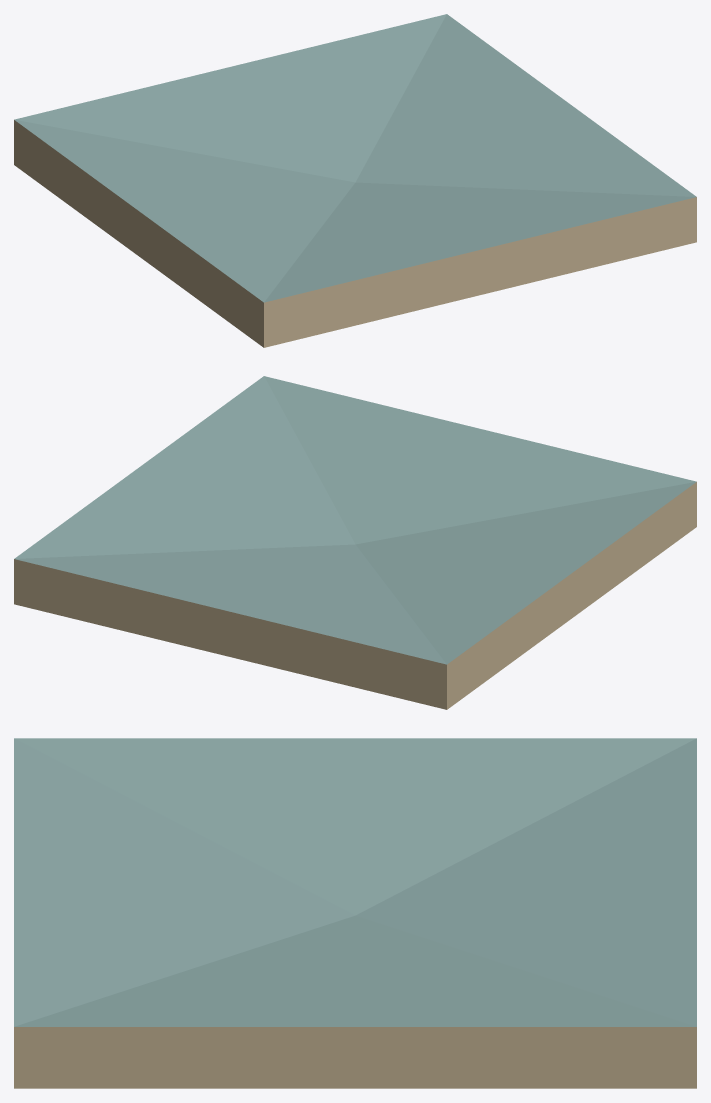
File: Nature Ground 2.fbx
3 views of the same model, one above another, from view 1: azimuth 30°, elevation 25°; view 2: azimuth 150°, elevation 25°; view 3: azimuth 270°, elevation 25° (orthographic). The views are drawn at different scales.
Visible parts, largest first — view 1: Nature Ground 2; view 2: Nature Ground 2; view 3: Nature Ground 2.
Part boxes in pixels (x1=…): Nature Ground 2: x1=14, y1=14, x2=696, y2=347; Nature Ground 2: x1=14, y1=376, x2=696, y2=709; Nature Ground 2: x1=14, y1=738, x2=696, y2=1088.
Size of the model in its own units: 3 by 0.3 by 3.
